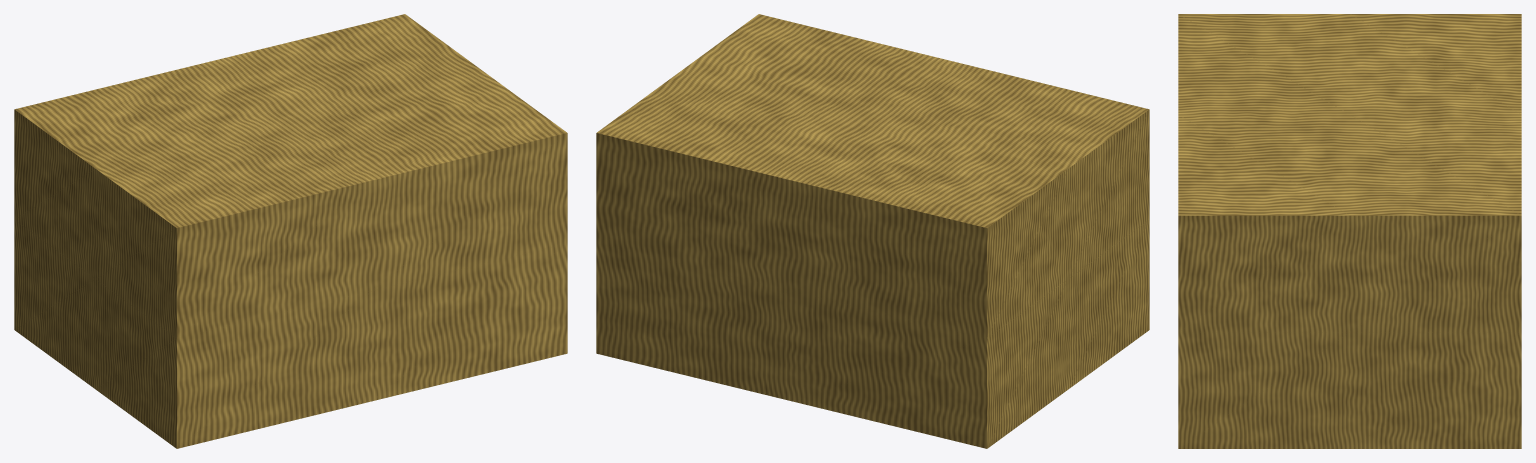
Rendered from strawStack_L0.glb.
3 renders of one model, left to right at view 1: azimuth 30°, elevation 25°; view 2: azimuth 150°, elevation 25°; view 3: azimuth 270°, elevation 25°, orthographic. The views are drawn at different scales.
Parts seen in each view (by area): view 1: stack:straw; view 2: stack:straw; view 3: stack:straw.
Boxes of the visible parts, x1,y1,x2,y2 form: stack:straw: [14, 14, 567, 448]; stack:straw: [596, 14, 1149, 448]; stack:straw: [1178, 14, 1521, 448].
Bounding box in the file's own units: 5 × 2.7 × 3.6.
1 material, 1 textured.
